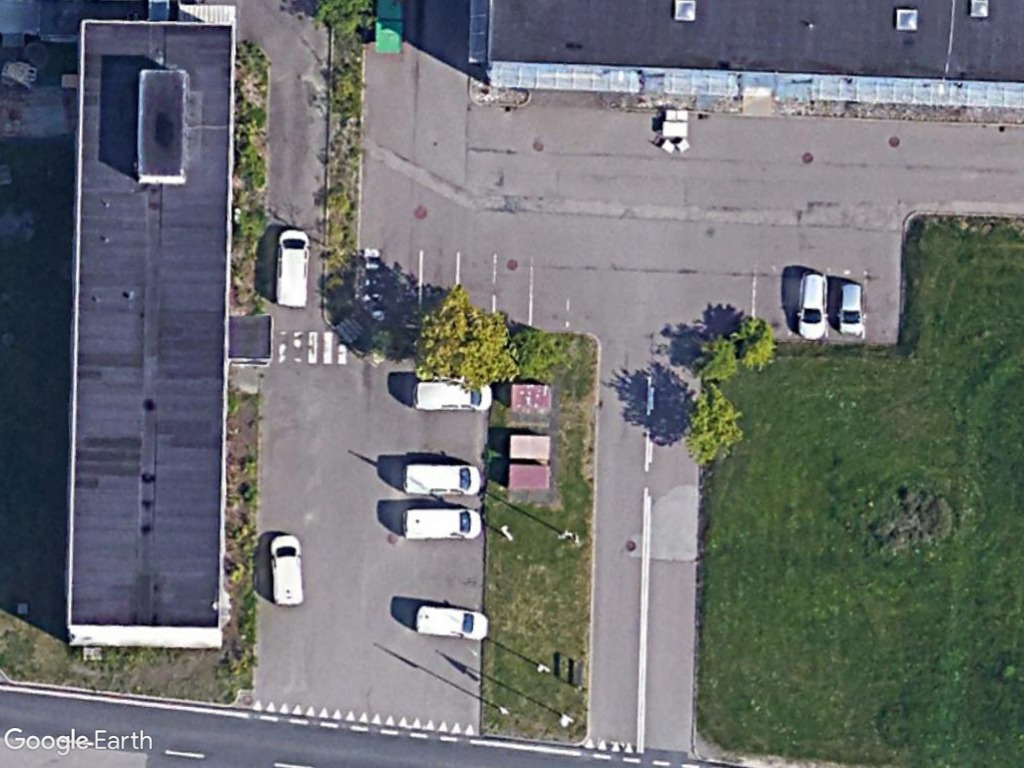car: (793, 269, 831, 340), (834, 278, 868, 338)
van: (270, 224, 313, 311), (410, 374, 496, 416), (267, 531, 311, 611), (411, 602, 494, 643), (401, 505, 484, 545), (401, 460, 484, 499)
